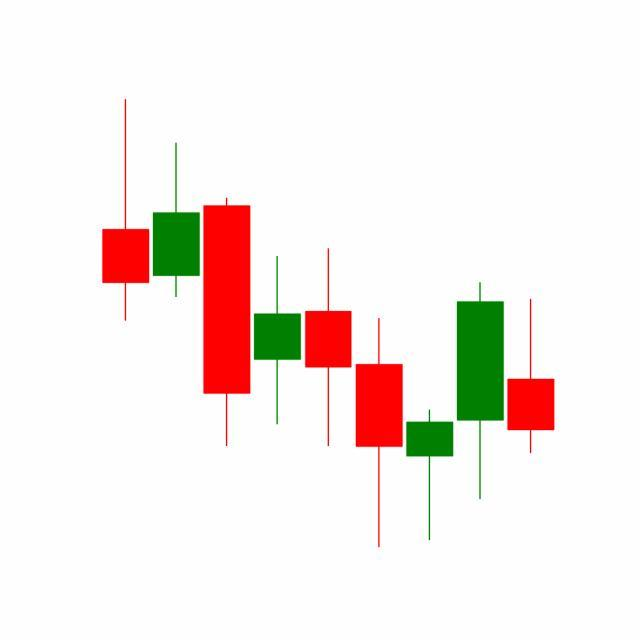Hikkake Pattern: (252, 244, 506, 548)
